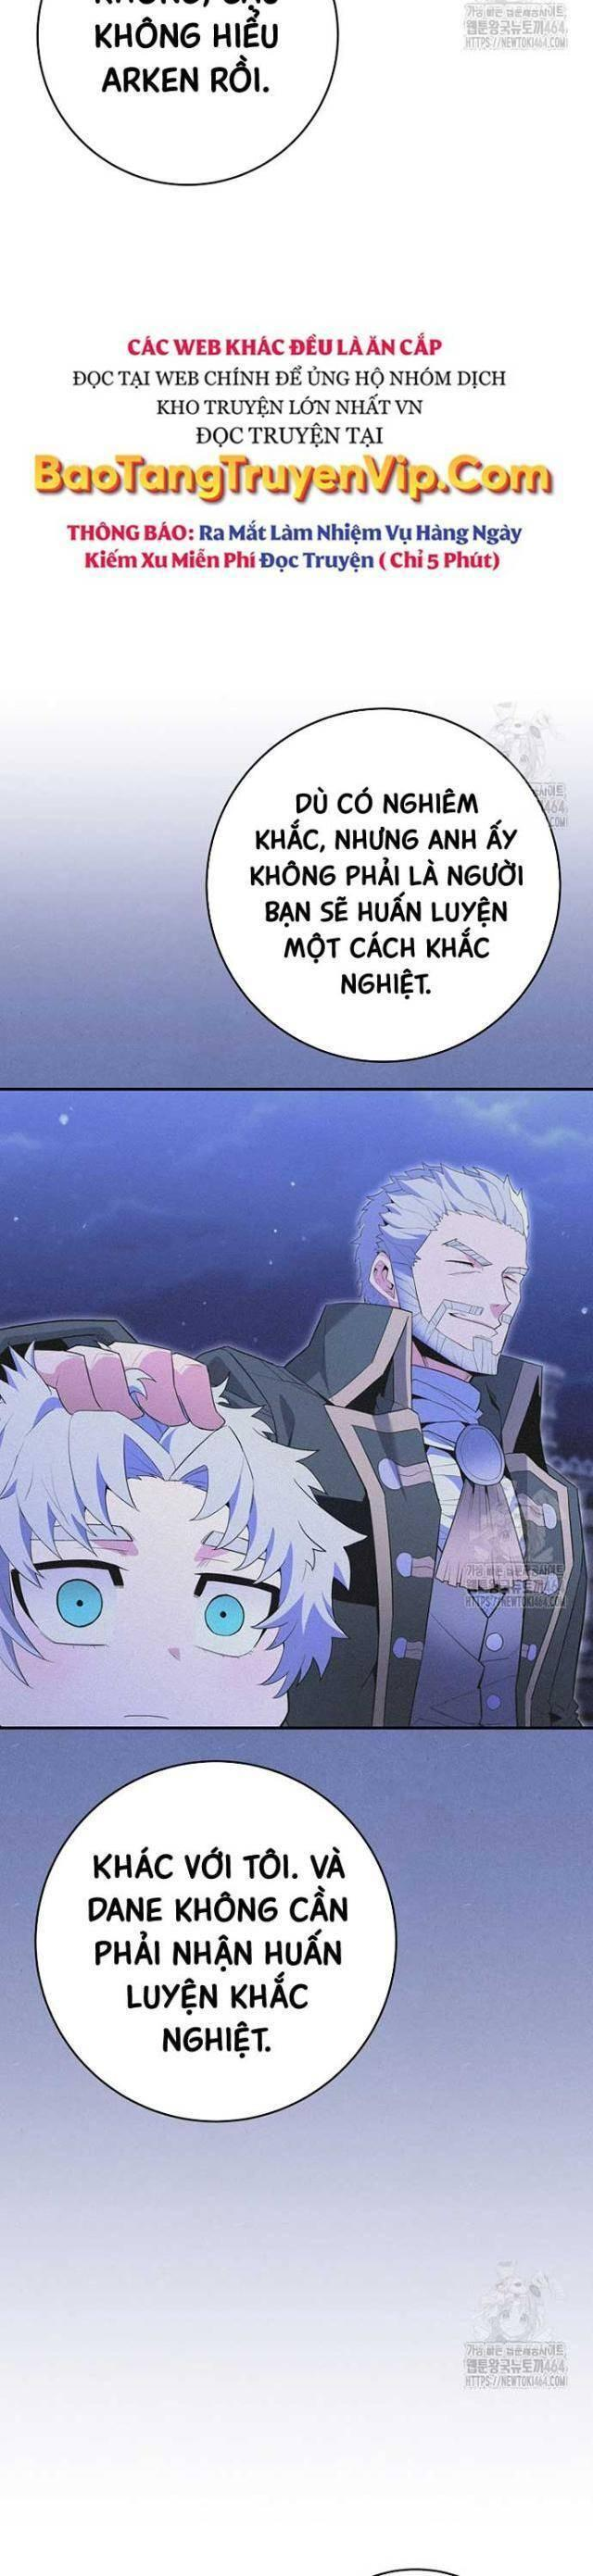quangcao: (31, 330, 565, 580)
